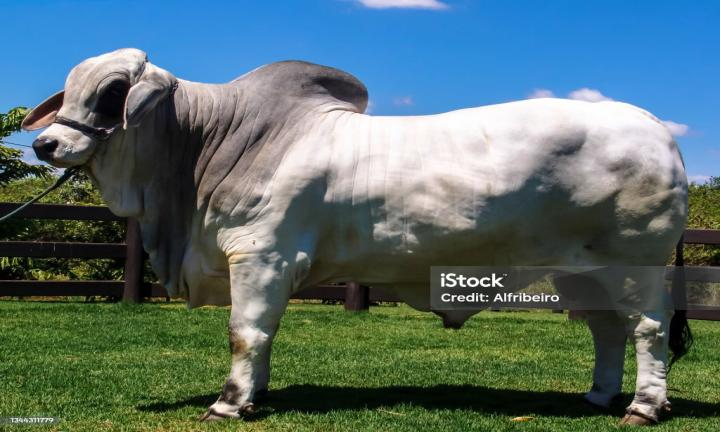Brahman: (22, 48, 690, 424)
